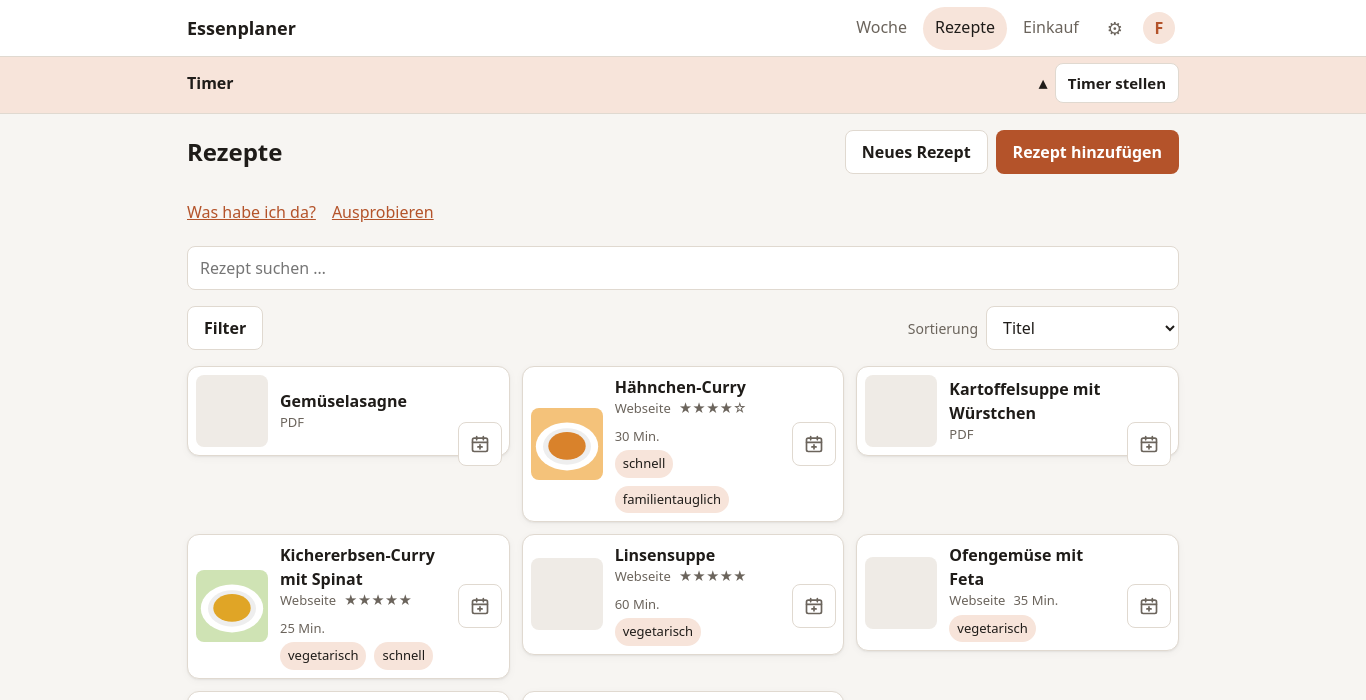
Test: Rezeptliste › Filter und Sortierung › zeigt bei Filtern ohne Treffer eine eigene Meldung und setzt sie zurück
Click the button "Filter": (225, 328) [187,306,263,350]
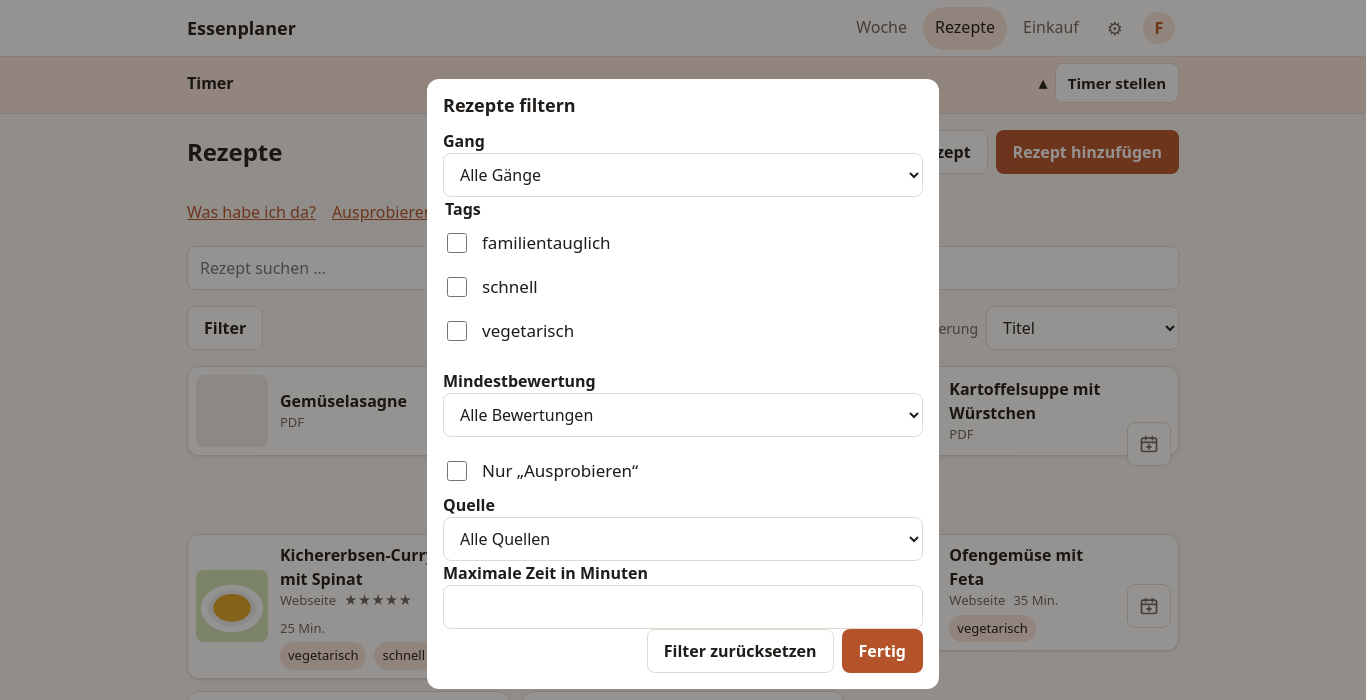
Select "Eigenes Rezept" in the dropdown labelled "Quelle": (683, 539) [443,517,923,561]
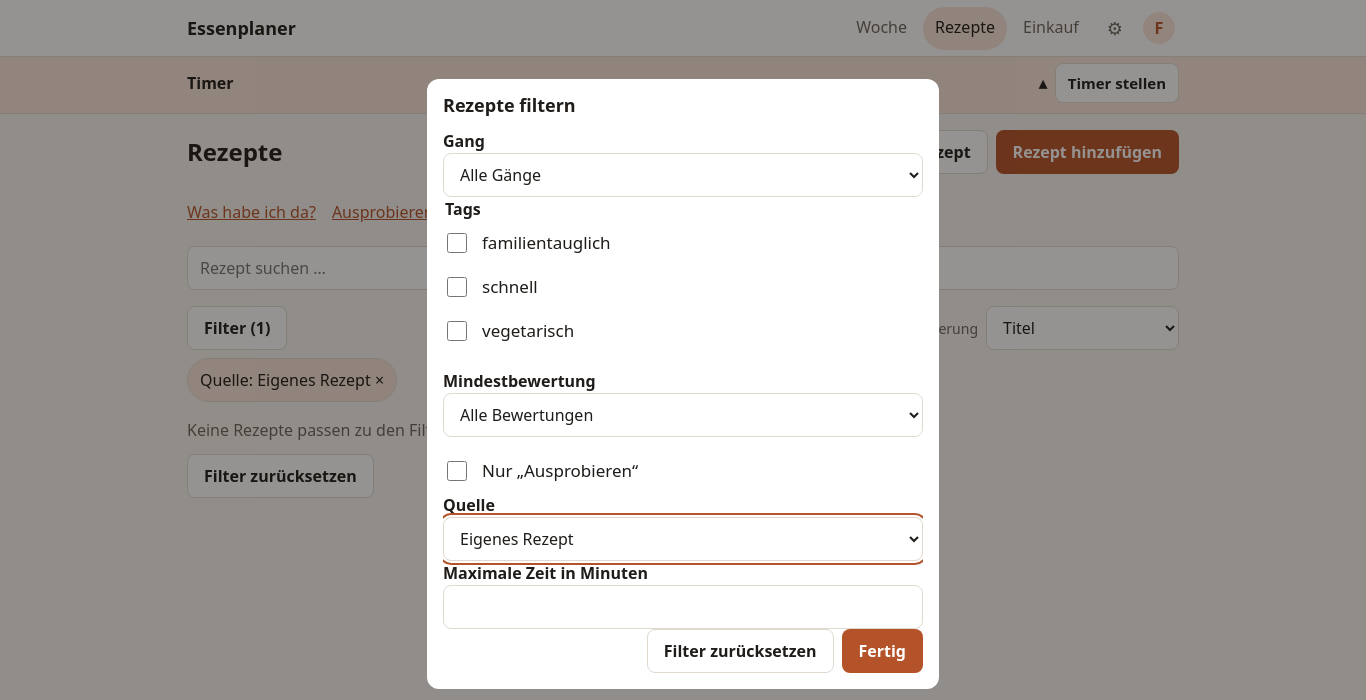
Click the button "Fertig": (882, 651) [842,629,923,673]
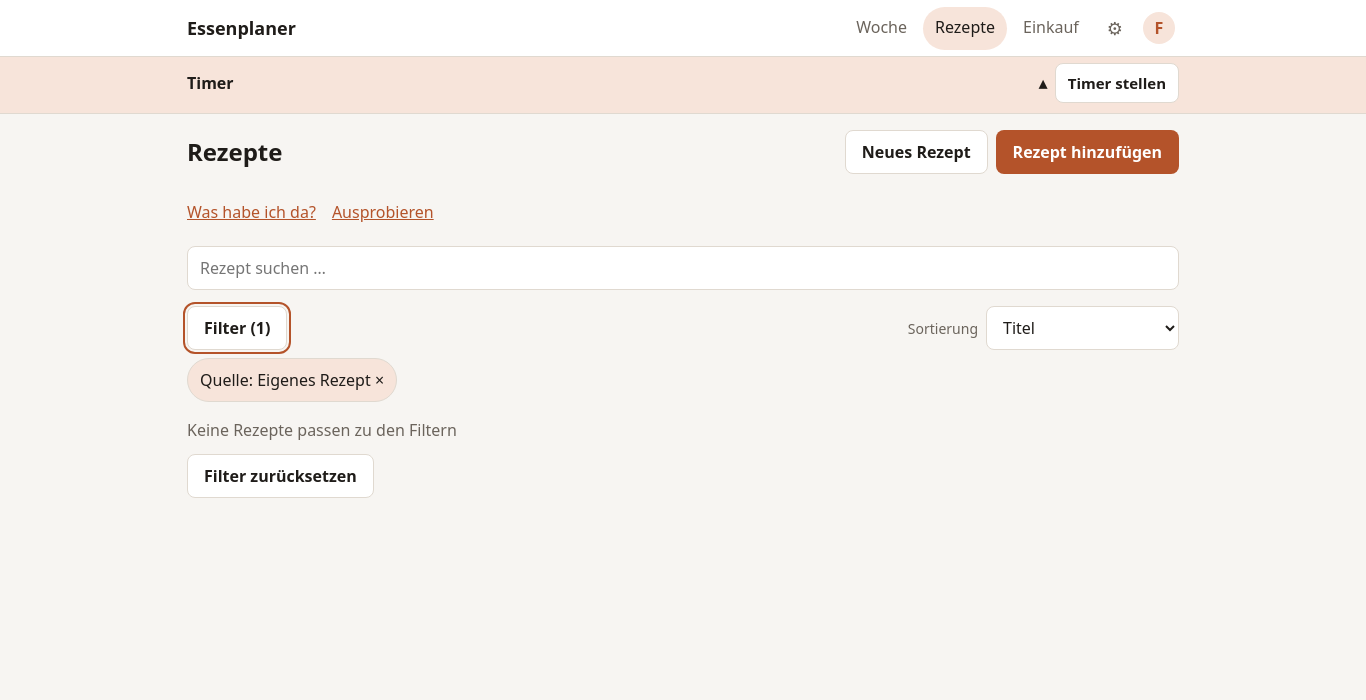
Expected: the text "Keine Rezepte passen zu den Filtern" is shown, [187,419,457,441]
Click the button "Filter zurücksetzen": (280, 476) [187,454,374,498]
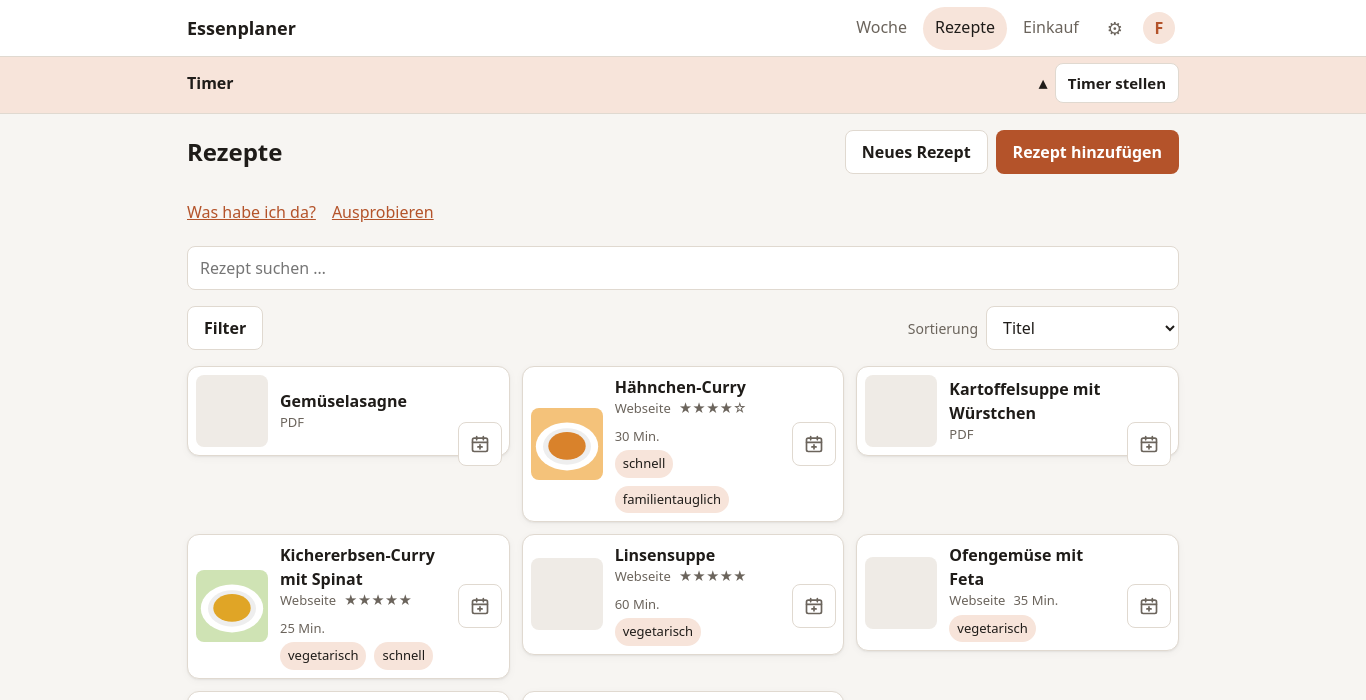
Expected: the link "Hähnchen-Curry" is shown, [522,366,844,522]
